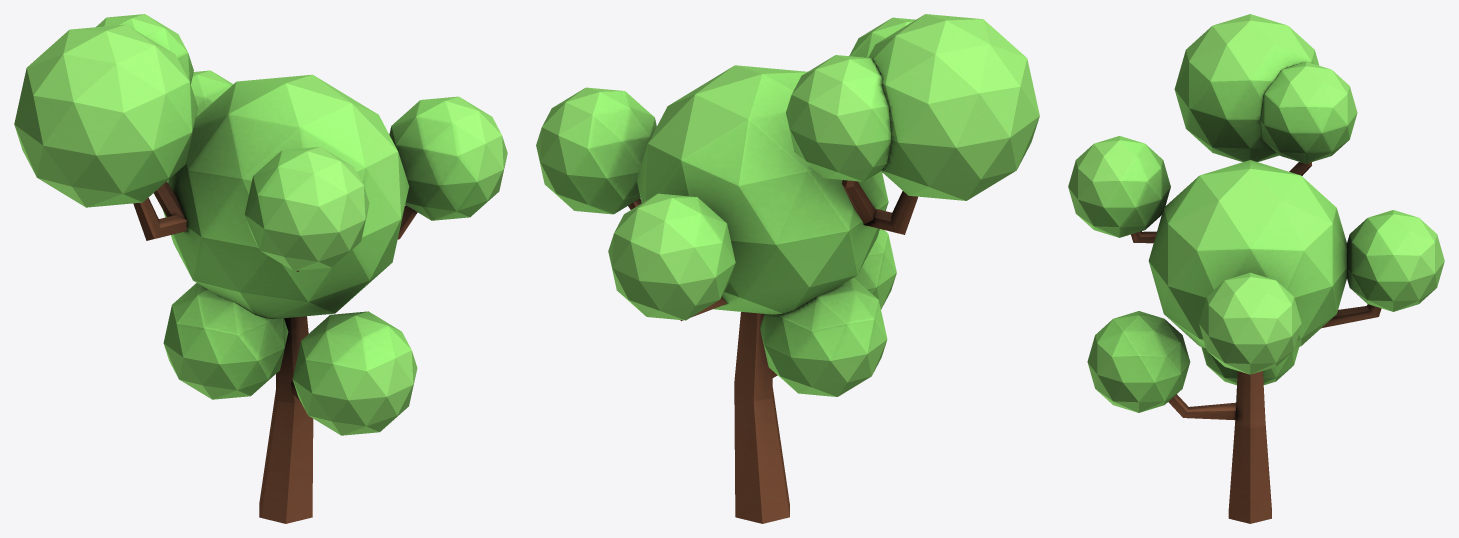
File: Tree1.FBX
3 views of the same model, side by side, from view 1: azimuth 30°, elevation 25°; view 2: azimuth 150°, elevation 25°; view 3: azimuth 270°, elevation 25° (orthographic). The views are drawn at different scales.
Parts seen in each view (by area): view 1: tree003; view 2: tree003; view 3: tree003.
Part boxes in pixels (box(x1,y1,x2,y2)): tree003: box(14, 14, 507, 523); tree003: box(536, 14, 1039, 523); tree003: box(1068, 14, 1444, 523).
Size of the model in its own units: 251 by 268 by 216.
